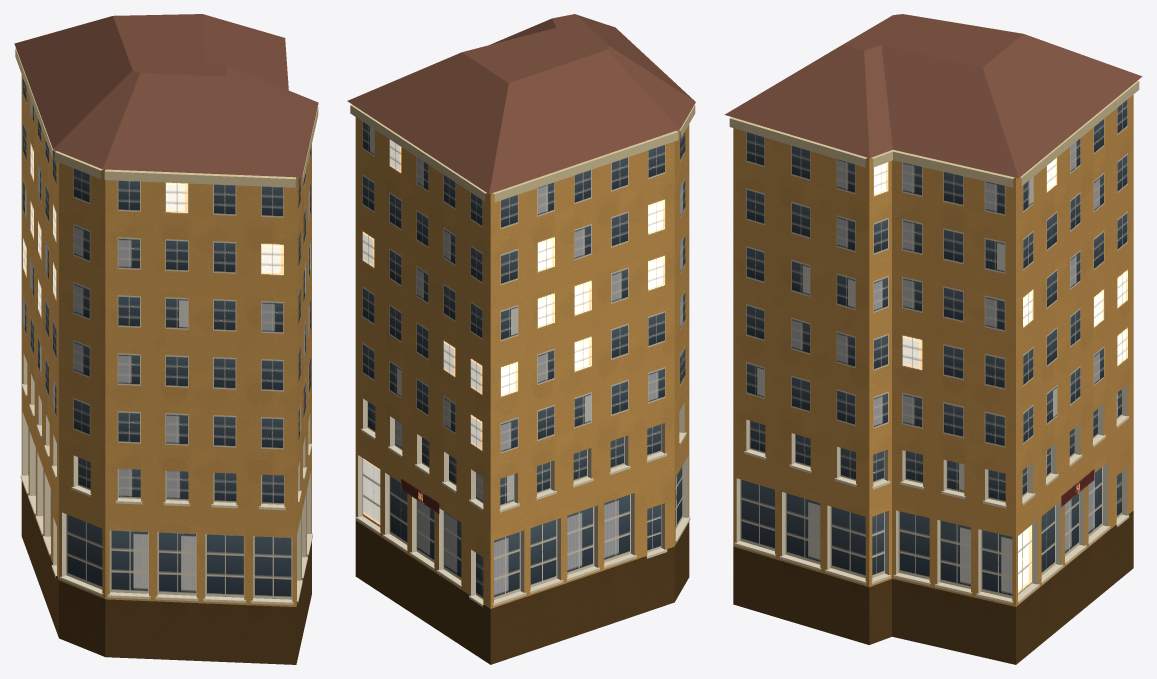
The model's file is langB_strauss.glb.
3 views of the same model, side by side, from view 1: azimuth 30°, elevation 25°; view 2: azimuth 150°, elevation 25°; view 3: azimuth 270°, elevation 25° (orthographic). The views are drawn at different scales.
Parts seen in each view (by area): view 1: langB_strauss; view 2: langB_strauss; view 3: langB_strauss.
Boxes of the visible parts, left/top/right/bottom form: langB_strauss: left=14, top=14, right=318, bottom=664; langB_strauss: left=347, top=14, right=695, bottom=664; langB_strauss: left=724, top=14, right=1142, bottom=664.
Bounding box in the file's own units: 15.64 × 28.63 × 19.67.
Materials: 3 (3 with a texture image).
